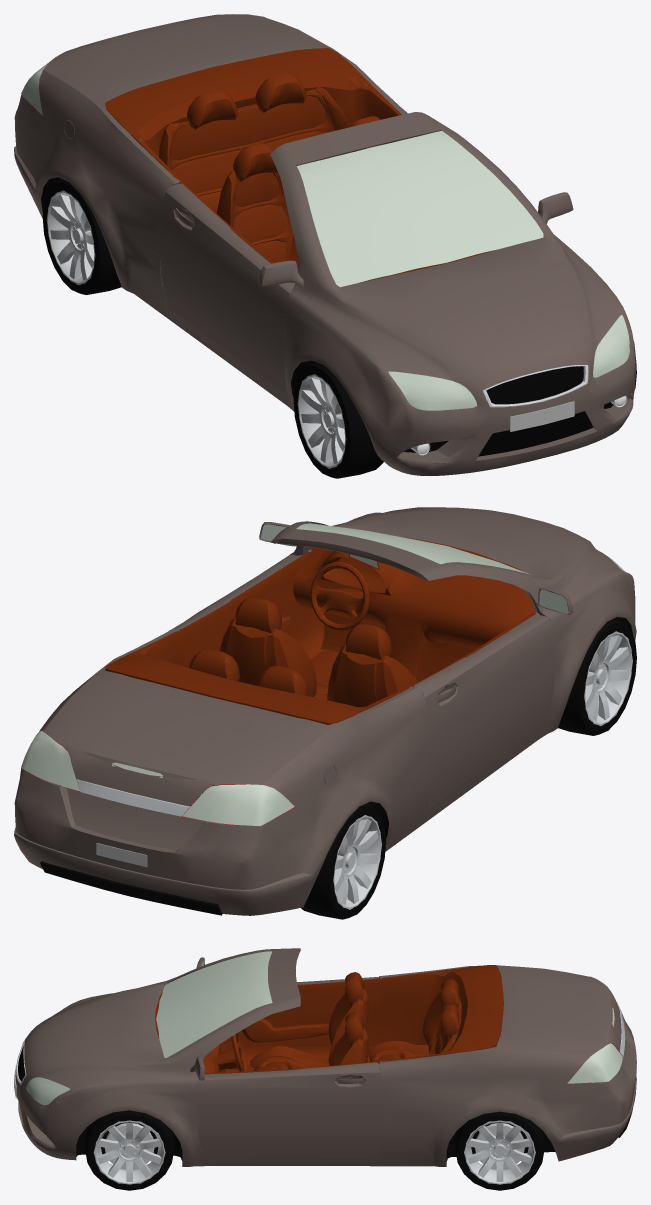
3 renders of one model, top to bottom at view 1: azimuth 30°, elevation 25°; view 2: azimuth 150°, elevation 25°; view 3: azimuth 270°, elevation 25°, orthographic. The views are drawn at different scales.
Parts seen in each view (by area): view 1: Ford Focus; view 2: Ford Focus; view 3: Ford Focus.
Part boxes in pixels (x1,y1,x2,y2): Ford Focus: [14, 14, 636, 478]; Ford Focus: [14, 507, 636, 919]; Ford Focus: [14, 948, 636, 1190].
Bounding box in the file's own units: 82 × 58.62 × 192.
